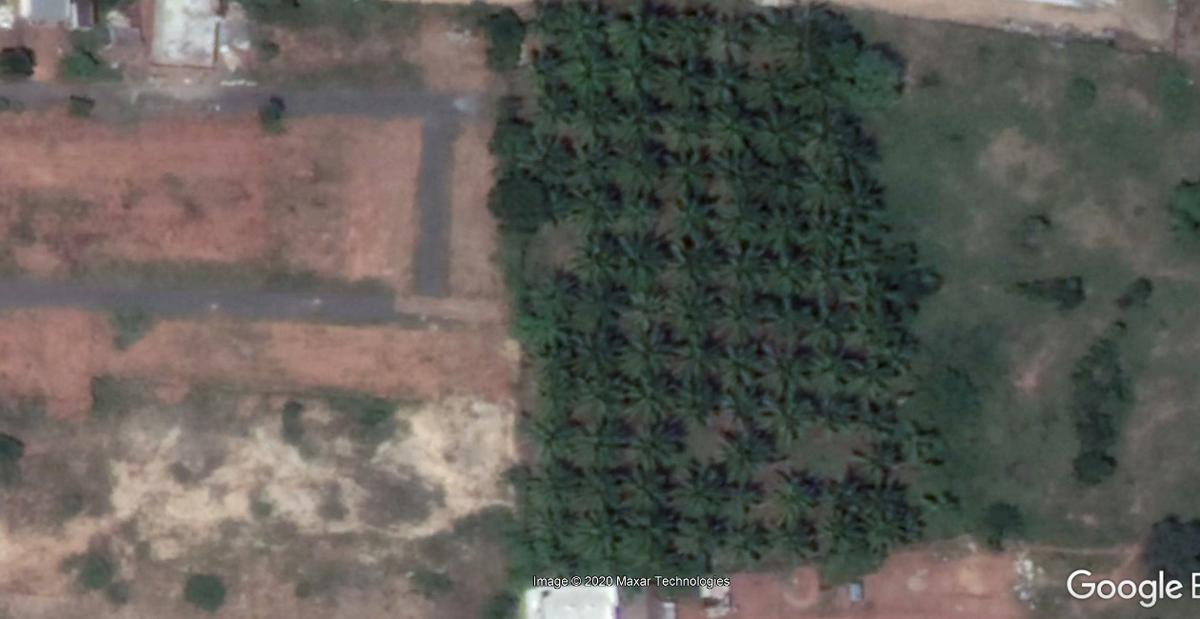coconut: (614, 319, 676, 390), (756, 335, 806, 402), (670, 232, 724, 294), (661, 139, 716, 199), (617, 132, 664, 202), (650, 53, 705, 109), (628, 420, 687, 472), (530, 466, 583, 522), (615, 375, 675, 424), (759, 103, 807, 164), (846, 435, 900, 489), (722, 234, 769, 296), (742, 58, 795, 112), (666, 325, 716, 382), (714, 422, 775, 468), (519, 308, 574, 359), (620, 230, 670, 286), (717, 517, 774, 566), (623, 462, 671, 520), (665, 7, 719, 58), (796, 162, 850, 213), (533, 407, 584, 461), (571, 132, 612, 198), (520, 131, 568, 187), (761, 244, 809, 300), (547, 3, 598, 55), (715, 341, 764, 395), (569, 185, 616, 241), (848, 267, 904, 314), (760, 200, 804, 259), (580, 514, 635, 561), (771, 472, 816, 529), (802, 208, 846, 266), (674, 468, 725, 518), (802, 336, 854, 385), (587, 414, 632, 470), (820, 511, 868, 563), (716, 140, 760, 196), (524, 272, 580, 316), (607, 7, 657, 56), (558, 50, 605, 102), (715, 196, 760, 249), (806, 250, 851, 303), (710, 105, 755, 156), (580, 230, 620, 286), (582, 465, 623, 519), (571, 329, 616, 378), (854, 350, 901, 396), (774, 467, 822, 512), (774, 517, 819, 565), (664, 104, 705, 153), (616, 54, 655, 105), (673, 195, 716, 241), (723, 470, 765, 514), (616, 103, 657, 146), (625, 180, 660, 228), (704, 59, 746, 96), (579, 105, 612, 144)
